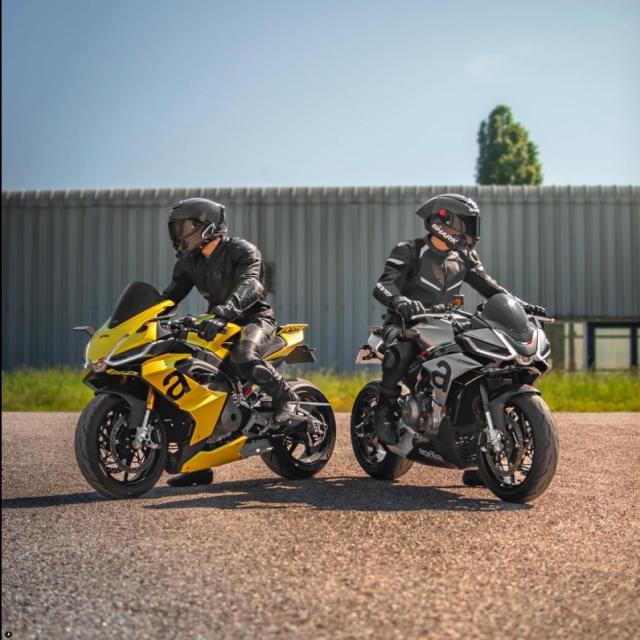helmet: (164, 194, 234, 262), (411, 191, 485, 255)
